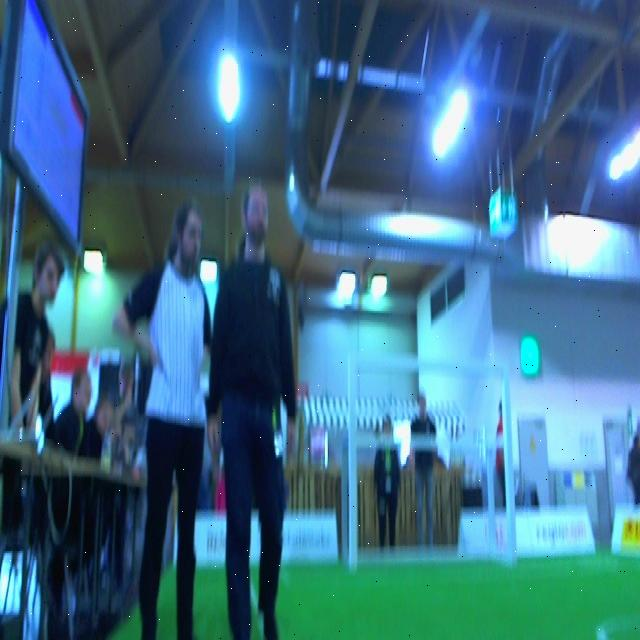goalpost: (500, 361, 518, 563), (349, 350, 357, 571)
